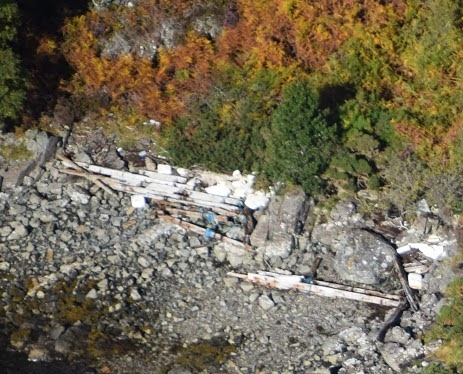straight_bar: (229, 263, 403, 317), (399, 117, 434, 175), (369, 303, 404, 345)
together_barrel: (53, 149, 271, 252), (397, 237, 448, 304)
